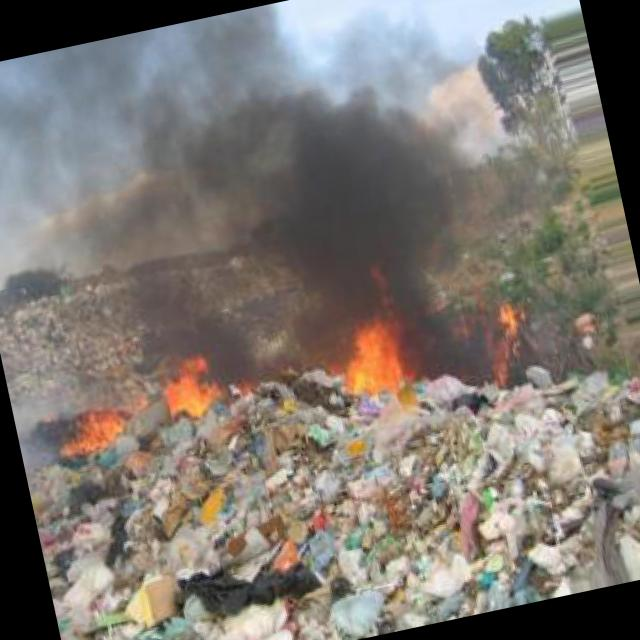fire: (331, 306, 418, 414), (46, 400, 143, 478), (154, 341, 228, 434), (480, 278, 536, 362)
smoke: (0, 0, 537, 382), (396, 284, 502, 396), (213, 316, 344, 402)
